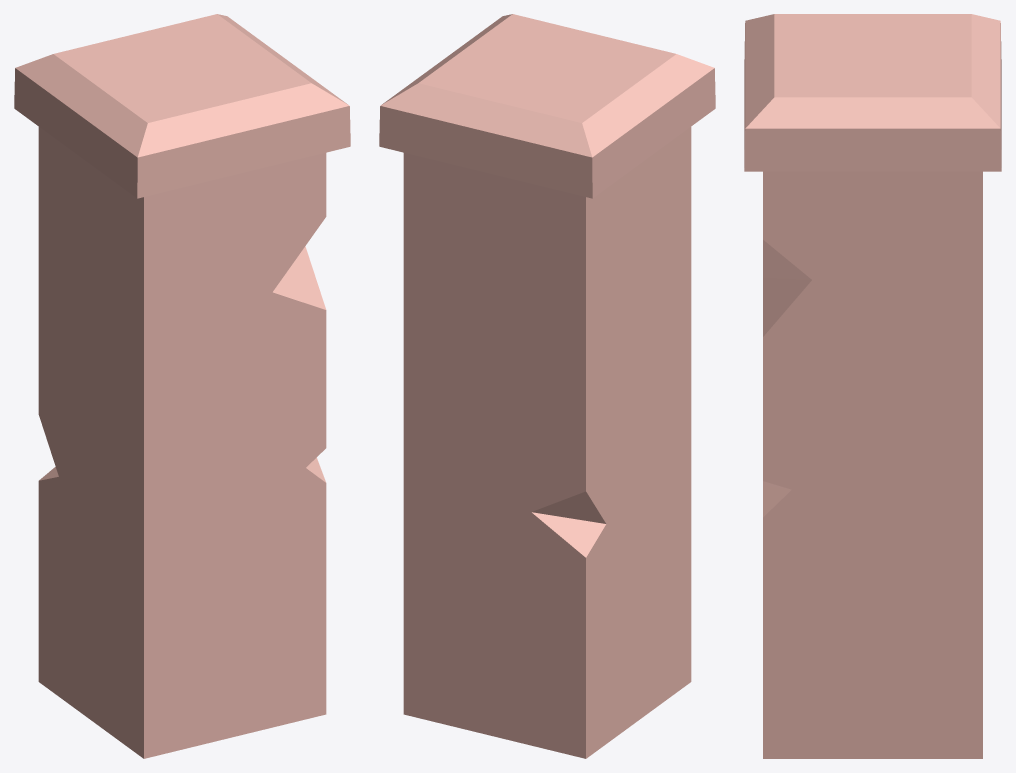
The model's file is Mega_Asset_s_Pack_Cube_206.FBX.
The picture shows the model from 3 angles, left to right: view 1: azimuth 30°, elevation 25°; view 2: azimuth 150°, elevation 25°; view 3: azimuth 270°, elevation 25°; orthographic projection. The views are drawn at different scales.
Visible parts, largest first — view 1: Mega_Asset_s_Pack_Cube_206; view 2: Mega_Asset_s_Pack_Cube_206; view 3: Mega_Asset_s_Pack_Cube_206.
Part boxes in pixels (bbox=[...]): Mega_Asset_s_Pack_Cube_206: bbox=[14, 14, 350, 758]; Mega_Asset_s_Pack_Cube_206: bbox=[379, 14, 715, 758]; Mega_Asset_s_Pack_Cube_206: bbox=[744, 14, 1001, 758].
Size of what is drawn, in the model's own units: 79.36 by 79.36 by 224.
